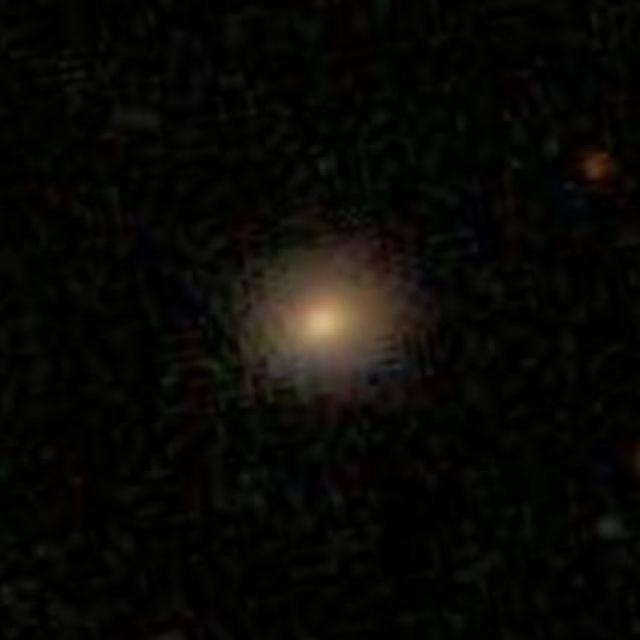galaxy: (203, 218, 442, 422), (579, 144, 616, 191)
